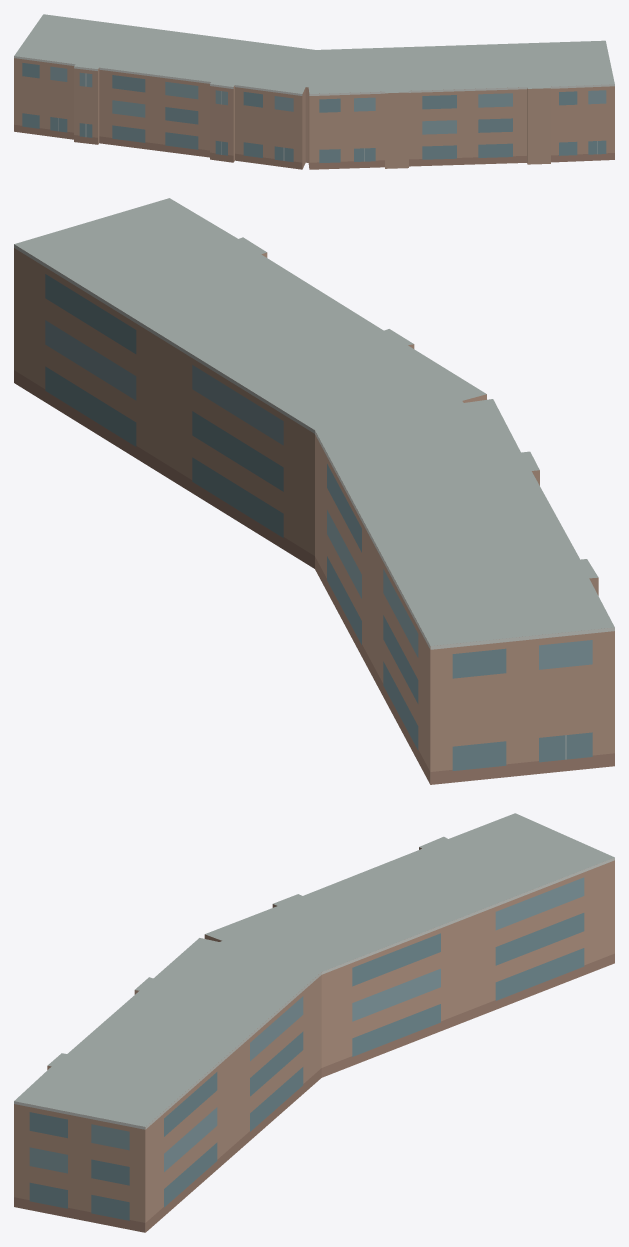
Rendered from survey-upis-32564948.glb.
3 views of the same model, one above another, from view 1: azimuth 30°, elevation 25°; view 2: azimuth 150°, elevation 25°; view 3: azimuth 270°, elevation 25° (orthographic). The views are drawn at different scales.
Parts seen in each view (by area): view 1: survey-upis-32564948.tmp; view 2: survey-upis-32564948.tmp; view 3: survey-upis-32564948.tmp.
Part boxes in pixels (left/top/right/bottom): survey-upis-32564948.tmp: left=14, top=14, right=614, bottom=169; survey-upis-32564948.tmp: left=14, top=198, right=614, bottom=784; survey-upis-32564948.tmp: left=14, top=813, right=614, bottom=1232.
Size of the model in its own units: 58.2 by 9.15 by 47.09.
